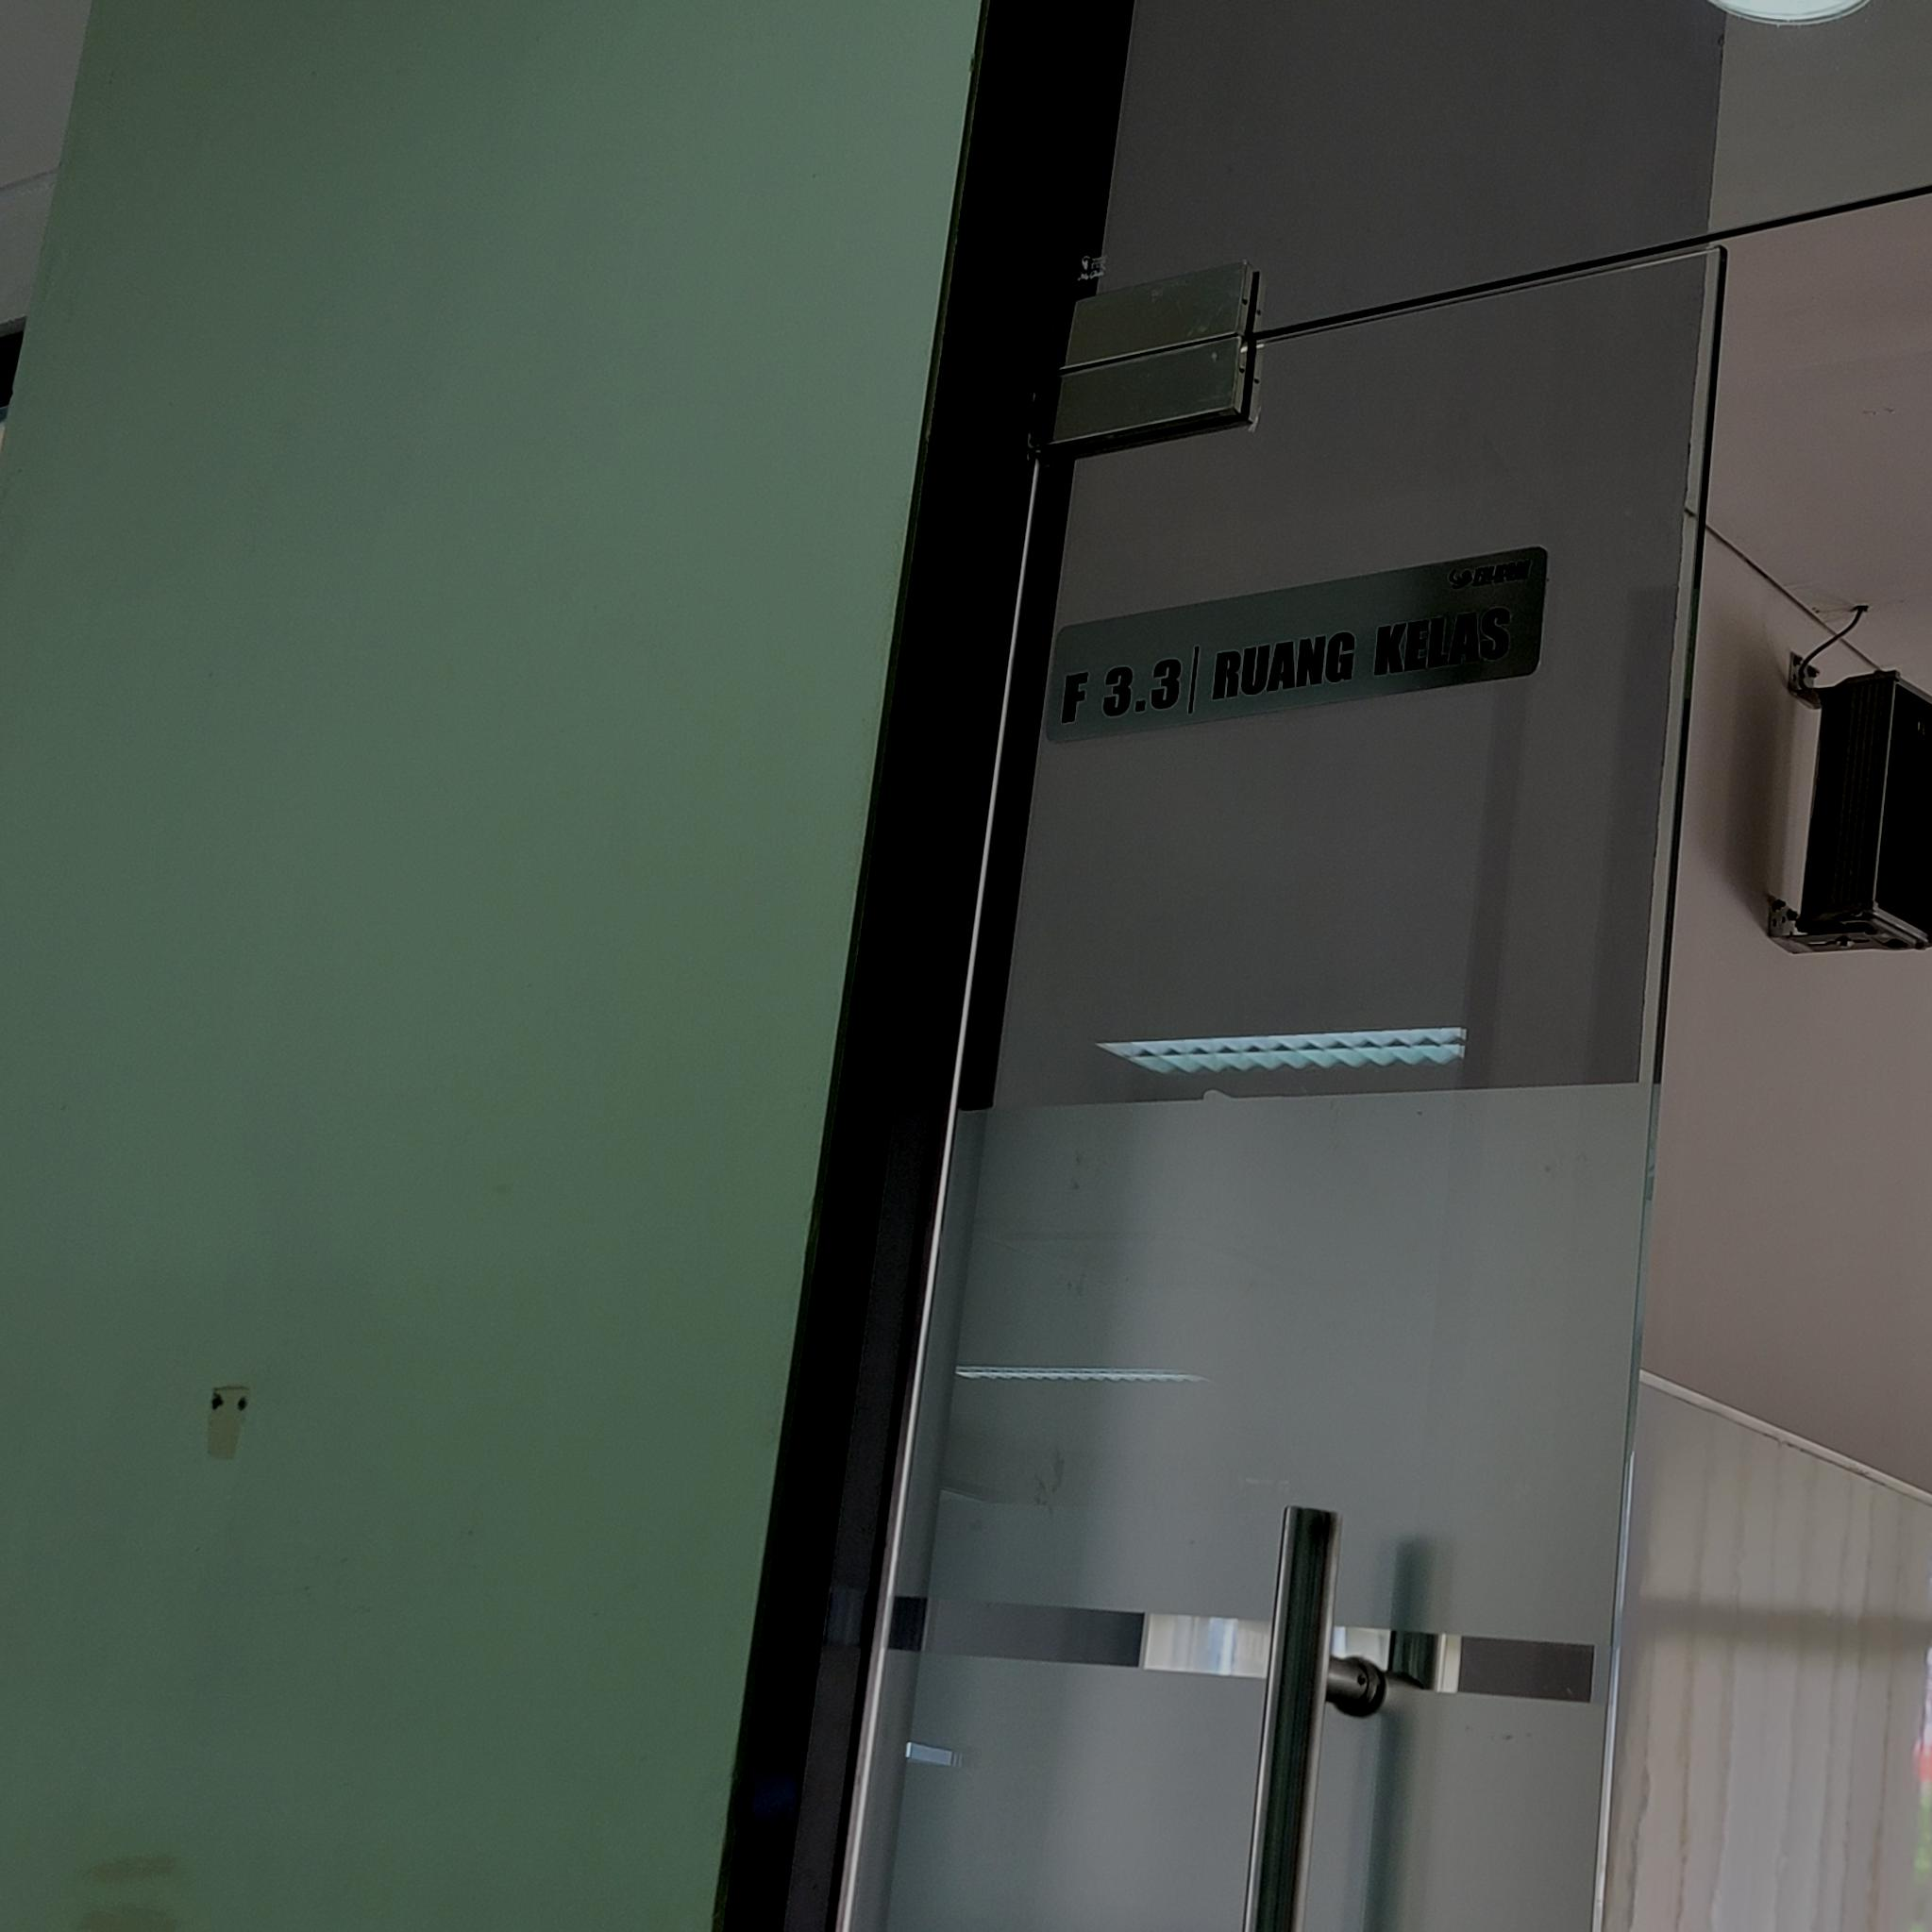plate: (1044, 543, 1546, 745)
